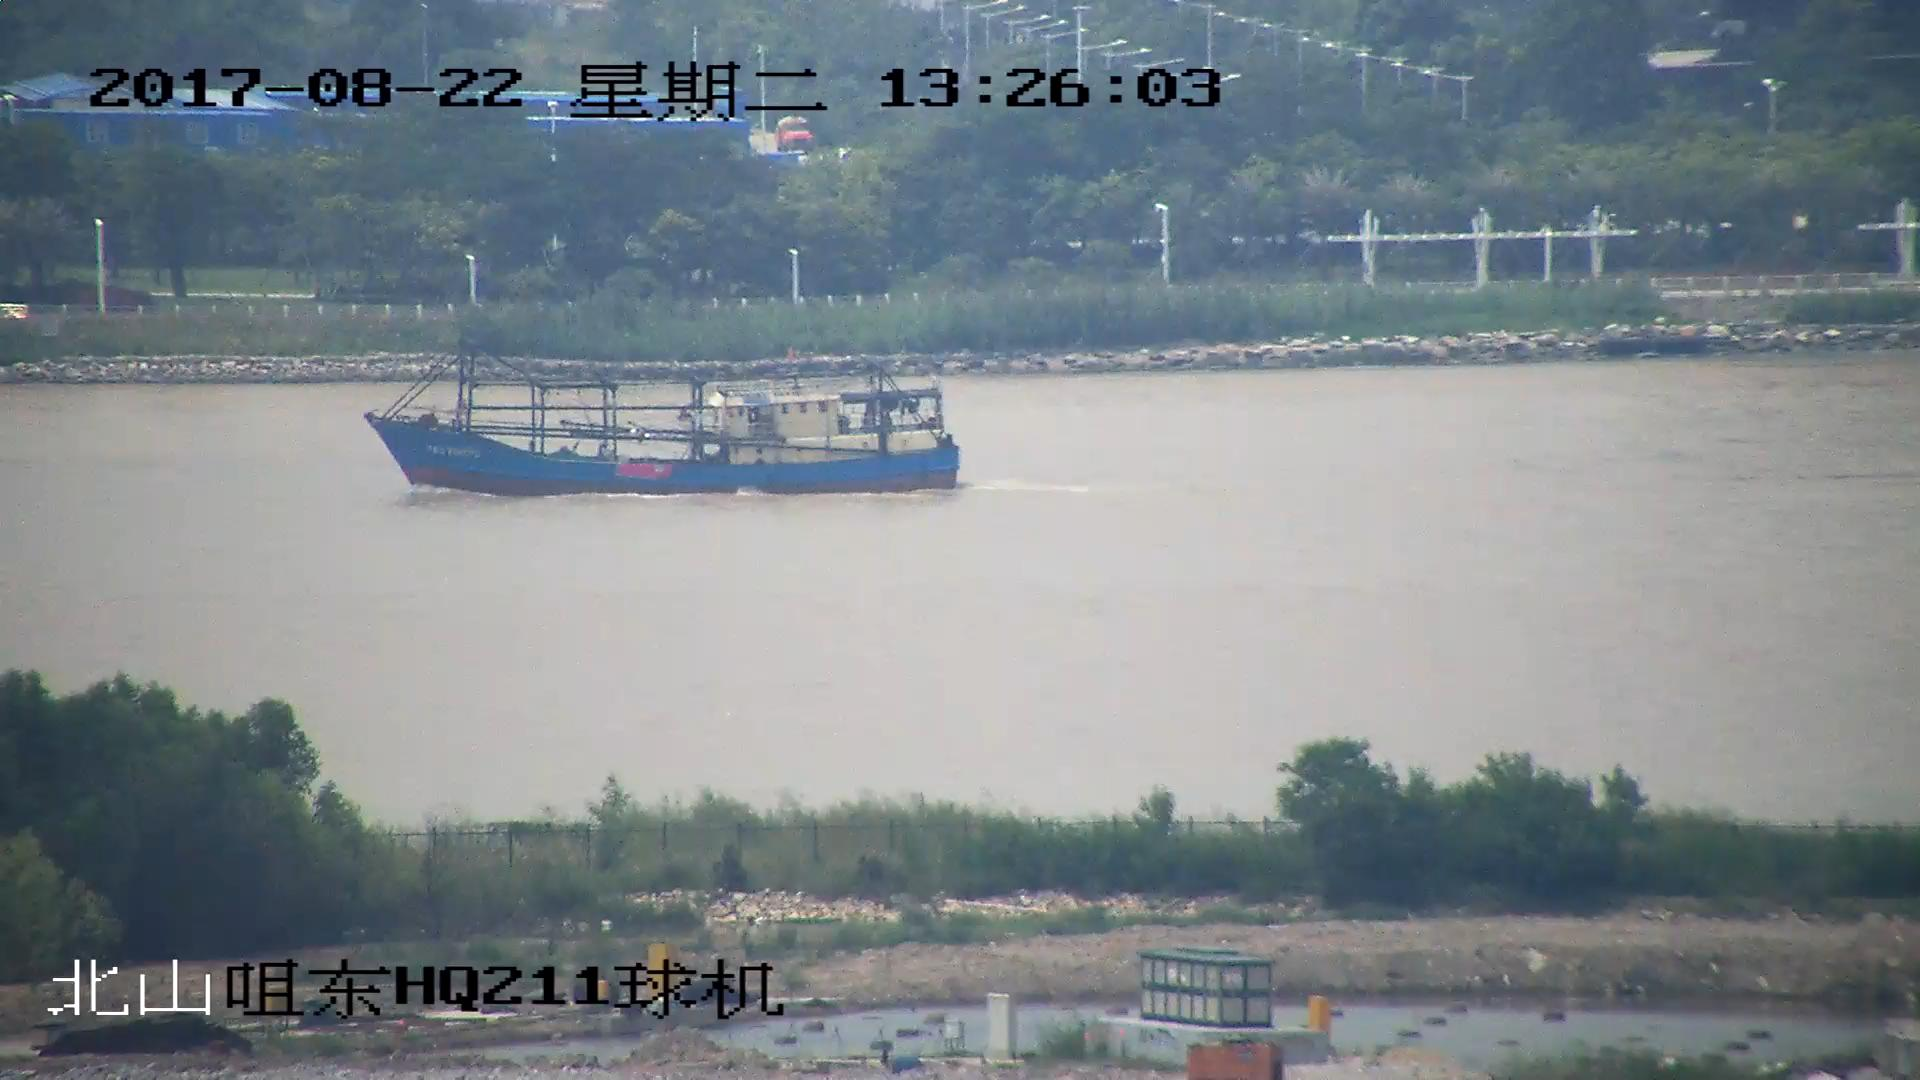fishing boat: (363, 334, 961, 493)
